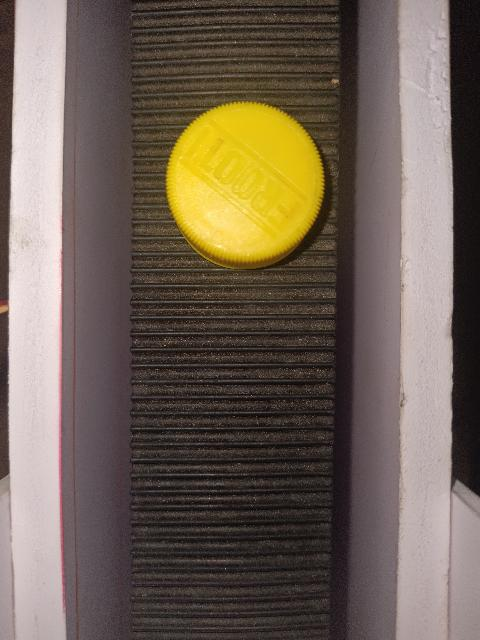bottlecap: (162, 97, 328, 271)
